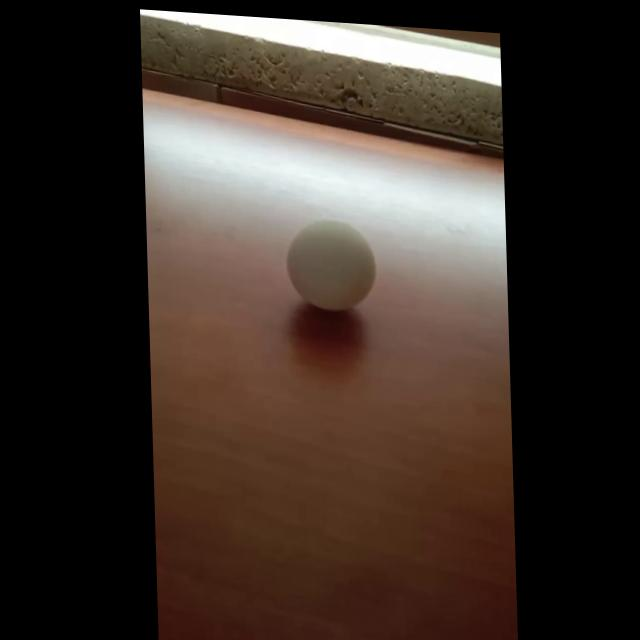white ball: (285, 217, 378, 315)
